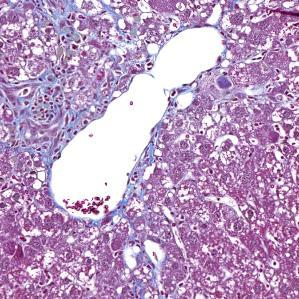fibrosis: (35, 24, 126, 100)
